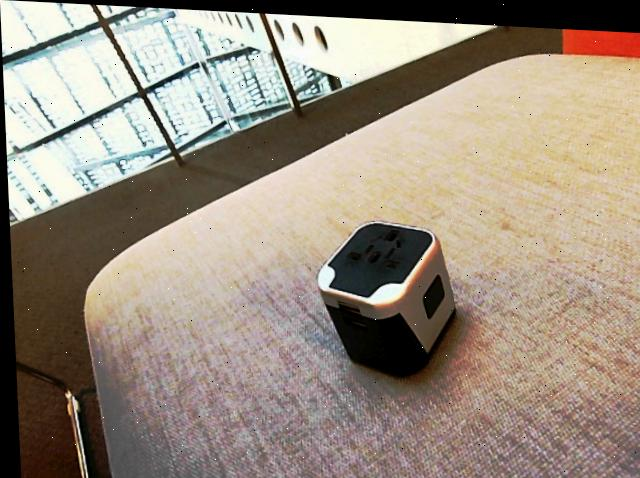adapter: (312, 213, 455, 376)
